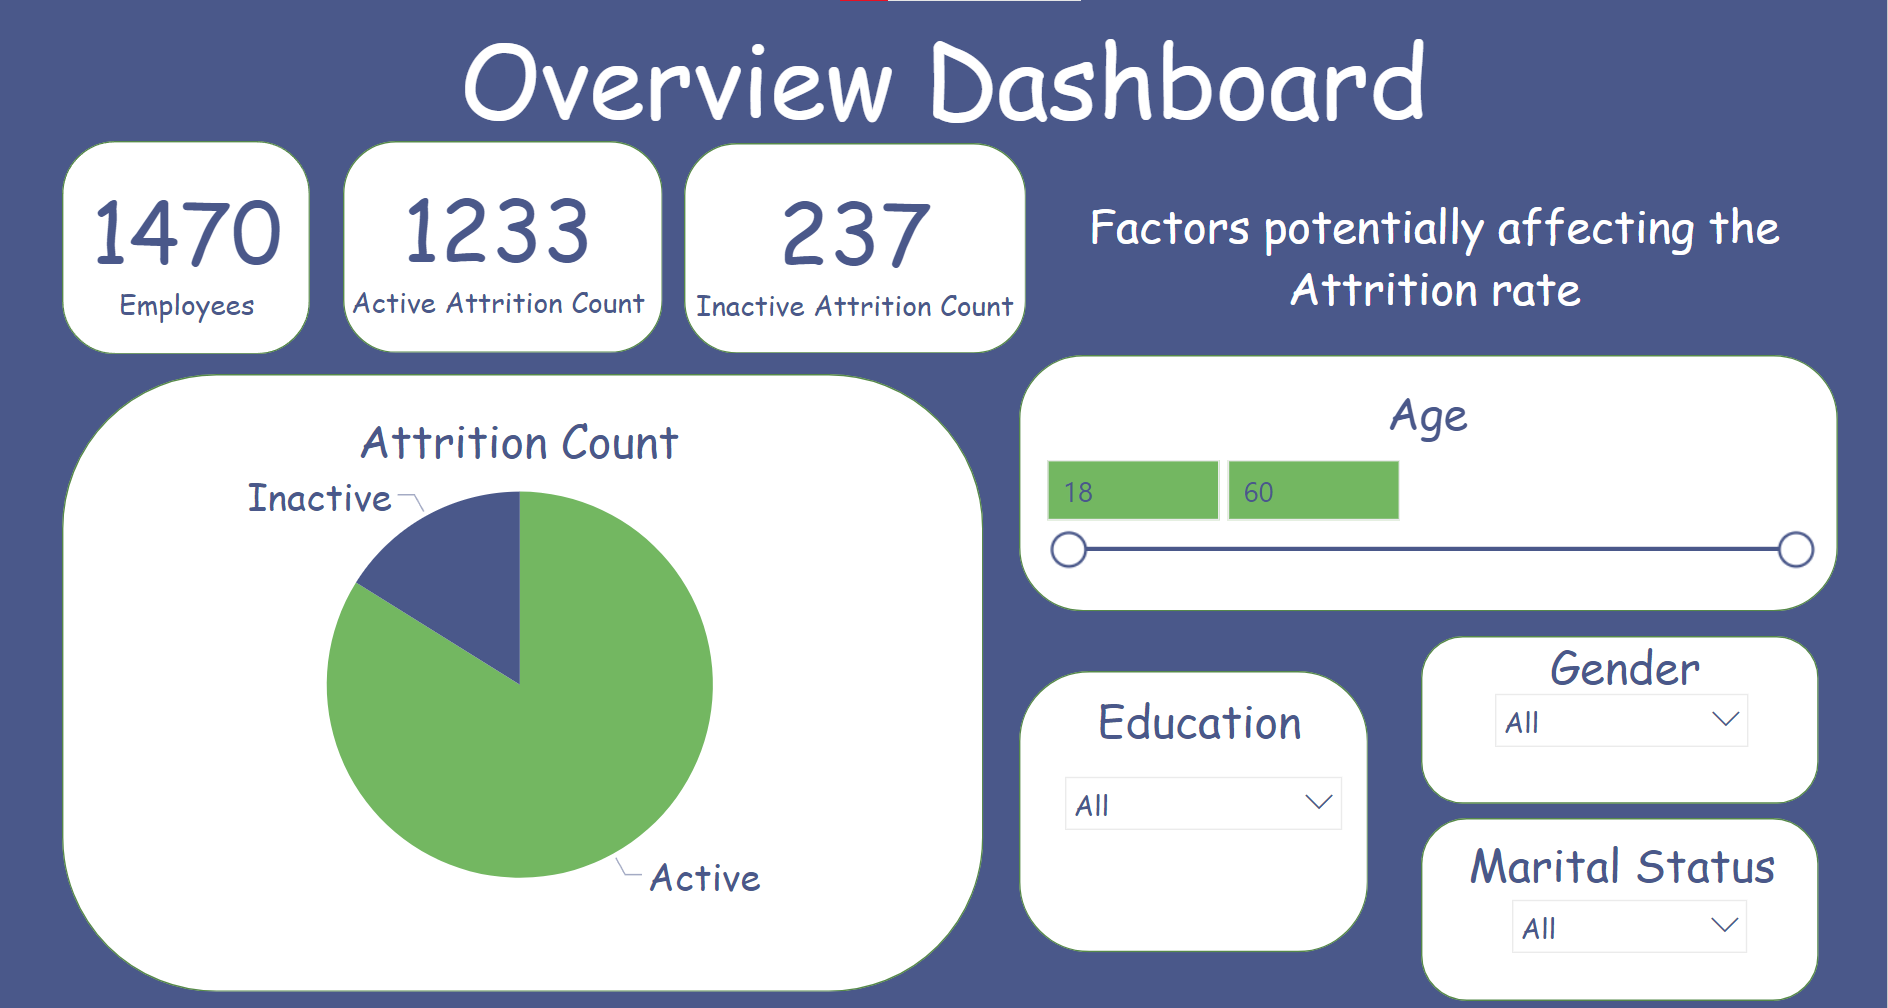

The page's visual inventory and layout, read from the dashboard file:
{"tool":"powerbi","page":{"name":"Overview Dashboard","canvas":[1280,720],"ordinal":0},"visuals":[{"type":"textbox","box":[0,0,1279.7,115.8],"z":0},{"type":"shape","box":[9.9,100.9,177.2,152.4],"z":0,"group":"g3"},{"type":"group","id":"g1","title":"Group 1","box":[9.9,267.2,658.1,441.4],"z":0,"group":"g2"},{"type":"textbox","box":[700.7,133.6,579,113.8],"z":1000},{"type":"textbox","box":[715.5,267.2,539.4,56.4],"z":1000,"group":"g7"},{"type":"textbox","box":[66.2,287.2,539.2,56.4],"z":1000,"group":"g2"},{"type":"card","fields":{"Values":["CountNonNull(Demographic_Data.EmployeeID)"]},"box":[14.8,106.8,168.2,140.5],"z":3500,"group":"g3"},{"type":"group","id":"g2","title":"Group 2","box":[9.9,267.2,658.1,441.4],"z":4000},{"type":"group","id":"g3","title":"Group 3","box":[9.9,100.9,177.2,152.4],"z":5000},{"type":"group","id":"g4","title":"Group 4","box":[200.9,100.9,241.5,151.4],"z":6000},{"type":"shape","box":[9.9,267.2,658.1,441.4],"z":6500,"group":"g1"},{"type":"group","id":"g5","title":"Group 5","box":[452.3,101.9,248.4,150.4],"z":7000},{"type":"group","id":"g6","title":"Group 6","box":[693.8,253.4,584.9,183.1],"z":8000},{"type":"shape","box":[454.4,101.9,244.5,150.4],"z":8500,"group":"g5"},{"type":"card","fields":{"Values":["Attrition_Data.Inactive Attrition Count"]},"box":[452.3,101.9,248.4,150.4],"z":9000,"group":"g5"},{"type":"group","id":"g7","title":"Group 7","box":[715.5,267.2,539.4,56.4],"z":9000},{"type":"shape","box":[693.8,253.4,584.9,183.1],"z":10000,"group":"g6"},{"type":"pieChart","fields":{"Category":["Attrition_Data.AttritionFlag"],"Y":["CountNonNull(Attrition_Data.AttritionFlag)"]},"box":[53.1,297.7,566.9,382.4],"z":10000,"group":"g1"},{"type":"group","id":"g8","title":"Group 9","box":[693.8,479,249.4,200.9],"z":10000},{"type":"shape","box":[210.7,100.9,228.5,151.4],"z":10002,"group":"g4"},{"type":"slicer","fields":{"Values":["Demographic_Data.Age"]},"box":[701,318.4,569.1,107.9],"z":10500,"group":"g6"},{"type":"card","fields":{"Values":["Attrition_Data.Active Attrition Count"]},"box":[200.9,100.9,241.5,149.4],"z":10502,"group":"g4"},{"type":"shape","box":[980.8,454.3,284,119.8],"z":11000,"group":"g10"},{"type":"shape","box":[693.8,479,249.4,200.9],"z":11000,"group":"g9"},{"type":"shape","box":[981.1,584.1,284,130.6],"z":11000,"group":"g14"},{"type":"slicer","fields":{"Values":["Demographic_Data.Education"]},"box":[716.4,542.6,217.5,117.9],"z":12000,"group":"g9"},{"type":"group","id":"g9","title":"Group 8","box":[693.8,479,249.4,200.9],"z":12001,"group":"g8"},{"type":"textbox","box":[731.4,486.9,182.1,56.4],"z":12501,"group":"g8"},{"type":"group","id":"g10","title":"Group 10","box":[980.8,448.7,284,125.3],"z":13000,"group":"g13"},{"type":"textbox","box":[1037,448.7,178.7,56],"z":13000,"group":"g10"},{"type":"textbox","box":[990.9,590,267.2,56.4],"z":13500,"group":"g14"},{"type":"group","id":"g11","title":"Group 12","box":[981.1,584.1,284,130.6],"z":13502},{"type":"group","id":"g12","title":"Group 13","box":[981.1,584.1,284,130.6],"z":13503,"group":"g11"},{"type":"slicer","fields":{"Values":["Demographic_Data.Gender"]},"box":[1023.6,483.7,200.9,75.2],"z":14002,"group":"g13"},{"type":"group","id":"g13","title":"Group 14","box":[980.8,448.7,284,125.3],"z":14003},{"type":"group","id":"g14","title":"Group 11","box":[981.1,584.1,284,130.6],"z":14501,"group":"g12"},{"type":"slicer","fields":{"Values":["Demographic_Data.MaritalStatus"]},"box":[1036.5,630.6,188,70.3],"z":15001,"group":"g12"}]}

Visuals, with their boxes on the page's 1280x720 design canvas (x1, y1, x2, y2). These are canvas units, not pixel positions in the 1888x1008 screenshot, which may show the page scaled, cropped or inside an application window:
textbox: detection(0, 0, 1280, 116)
shape: detection(10, 101, 187, 253)
"Group 1" group: detection(10, 267, 668, 709)
textbox: detection(701, 134, 1280, 247)
textbox: detection(716, 267, 1255, 324)
textbox: detection(66, 287, 605, 344)
card - CountNonNull(Demographic_Data.EmployeeID): detection(15, 107, 183, 247)
"Group 2" group: detection(10, 267, 668, 709)
"Group 3" group: detection(10, 101, 187, 253)
"Group 4" group: detection(201, 101, 442, 252)
shape: detection(10, 267, 668, 709)
"Group 5" group: detection(452, 102, 701, 252)
"Group 6" group: detection(694, 253, 1279, 436)
shape: detection(454, 102, 699, 252)
card - Attrition_Data.Inactive Attrition Count: detection(452, 102, 701, 252)
"Group 7" group: detection(716, 267, 1255, 324)
shape: detection(694, 253, 1279, 436)
pieChart - Attrition_Data.AttritionFlag x CountNonNull(Attrition_Data.AttritionFlag): detection(53, 298, 620, 680)
"Group 9" group: detection(694, 479, 943, 680)
shape: detection(211, 101, 439, 252)
slicer - Demographic_Data.Age: detection(701, 318, 1270, 426)
card - Attrition_Data.Active Attrition Count: detection(201, 101, 442, 250)
shape: detection(981, 454, 1265, 574)
shape: detection(694, 479, 943, 680)
shape: detection(981, 584, 1265, 715)
slicer - Demographic_Data.Education: detection(716, 543, 934, 660)
"Group 8" group: detection(694, 479, 943, 680)
textbox: detection(731, 487, 914, 543)
"Group 10" group: detection(981, 449, 1265, 574)
textbox: detection(1037, 449, 1216, 505)
textbox: detection(991, 590, 1258, 646)
"Group 12" group: detection(981, 584, 1265, 715)
"Group 13" group: detection(981, 584, 1265, 715)
slicer - Demographic_Data.Gender: detection(1024, 484, 1224, 559)
"Group 14" group: detection(981, 449, 1265, 574)
"Group 11" group: detection(981, 584, 1265, 715)
slicer - Demographic_Data.MaritalStatus: detection(1036, 631, 1224, 701)
